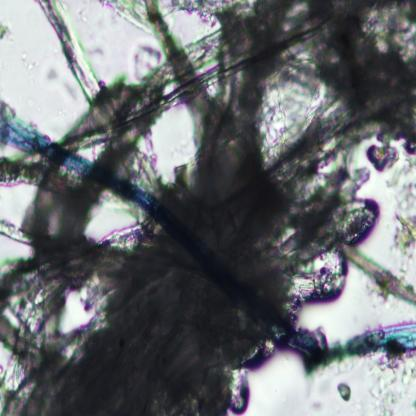Background material: (162, 1, 416, 322), (0, 216, 254, 414), (390, 201, 416, 260), (335, 381, 354, 401), (0, 18, 12, 45)
Cellulose filter fibre: (23, 9, 330, 166), (38, 1, 150, 175)
Cotton: (0, 110, 416, 359)
